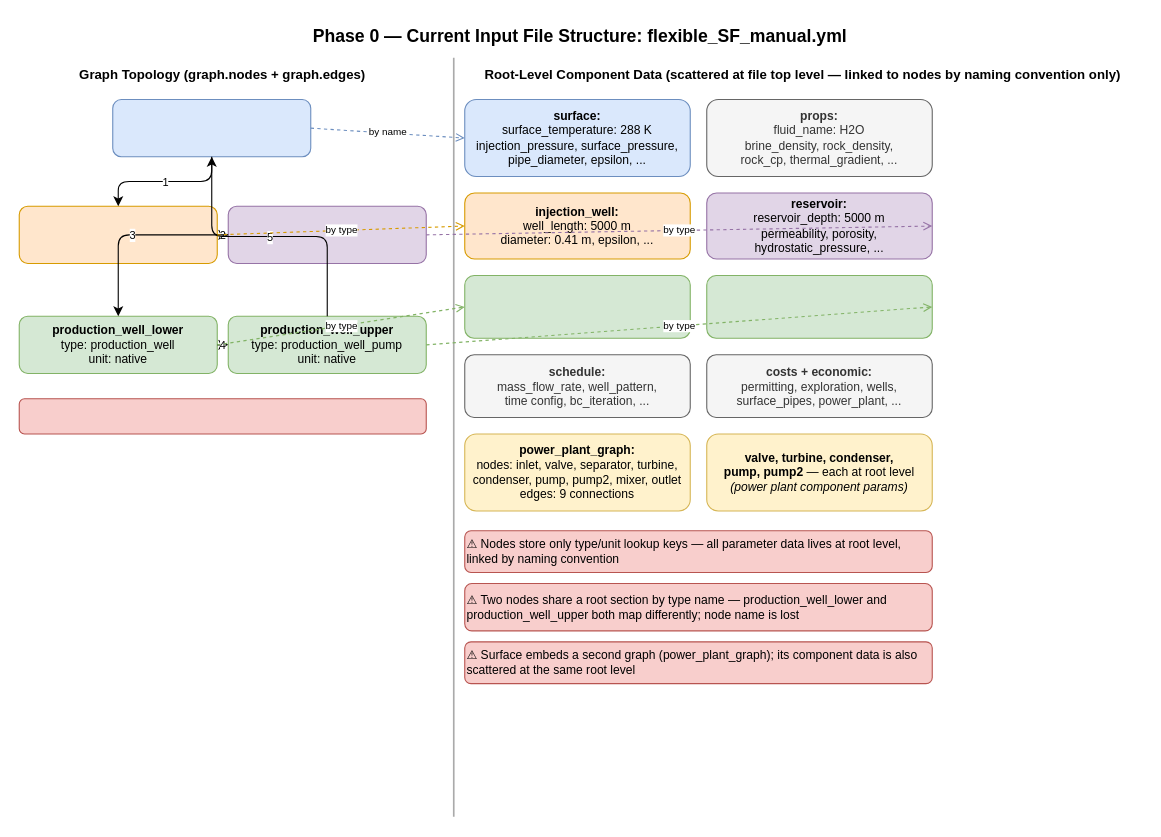
The diagram is 1161 pixels wide and 837 high, and some of its shapes have lost their labels. The shapes that lost their labels are listed below. From the top down, each one's box as (x1, y1, x2, y2) in pixels, then its label:
(112, 98, 311, 157): surface type: surface unit: native_flexible
(18, 205, 217, 263): injection_well type: injection_well unit: native
(227, 205, 426, 263): reservoir type: reservoir unit: native
(464, 274, 690, 338): production_well: well_length: 4000 m diameter: 0.41 m, epsilon, ...
(706, 274, 932, 338): production_well_pump: well_length: 1000 m diameter: 0.41 m, epsilon
(18, 398, 426, 434): Each node = only type + unit (lookup keys). No data stored here.
